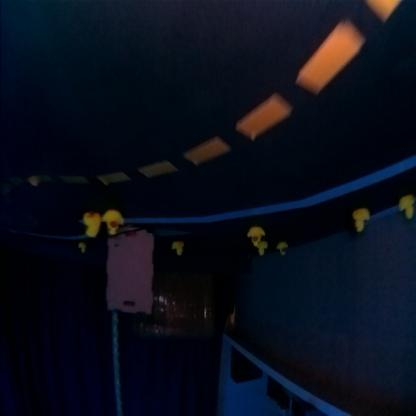Duckie: (105, 211, 124, 235), (84, 212, 100, 237), (352, 210, 370, 232), (399, 195, 414, 220), (248, 227, 266, 247), (172, 242, 184, 257), (278, 242, 288, 257), (257, 243, 268, 254), (78, 244, 86, 254)
